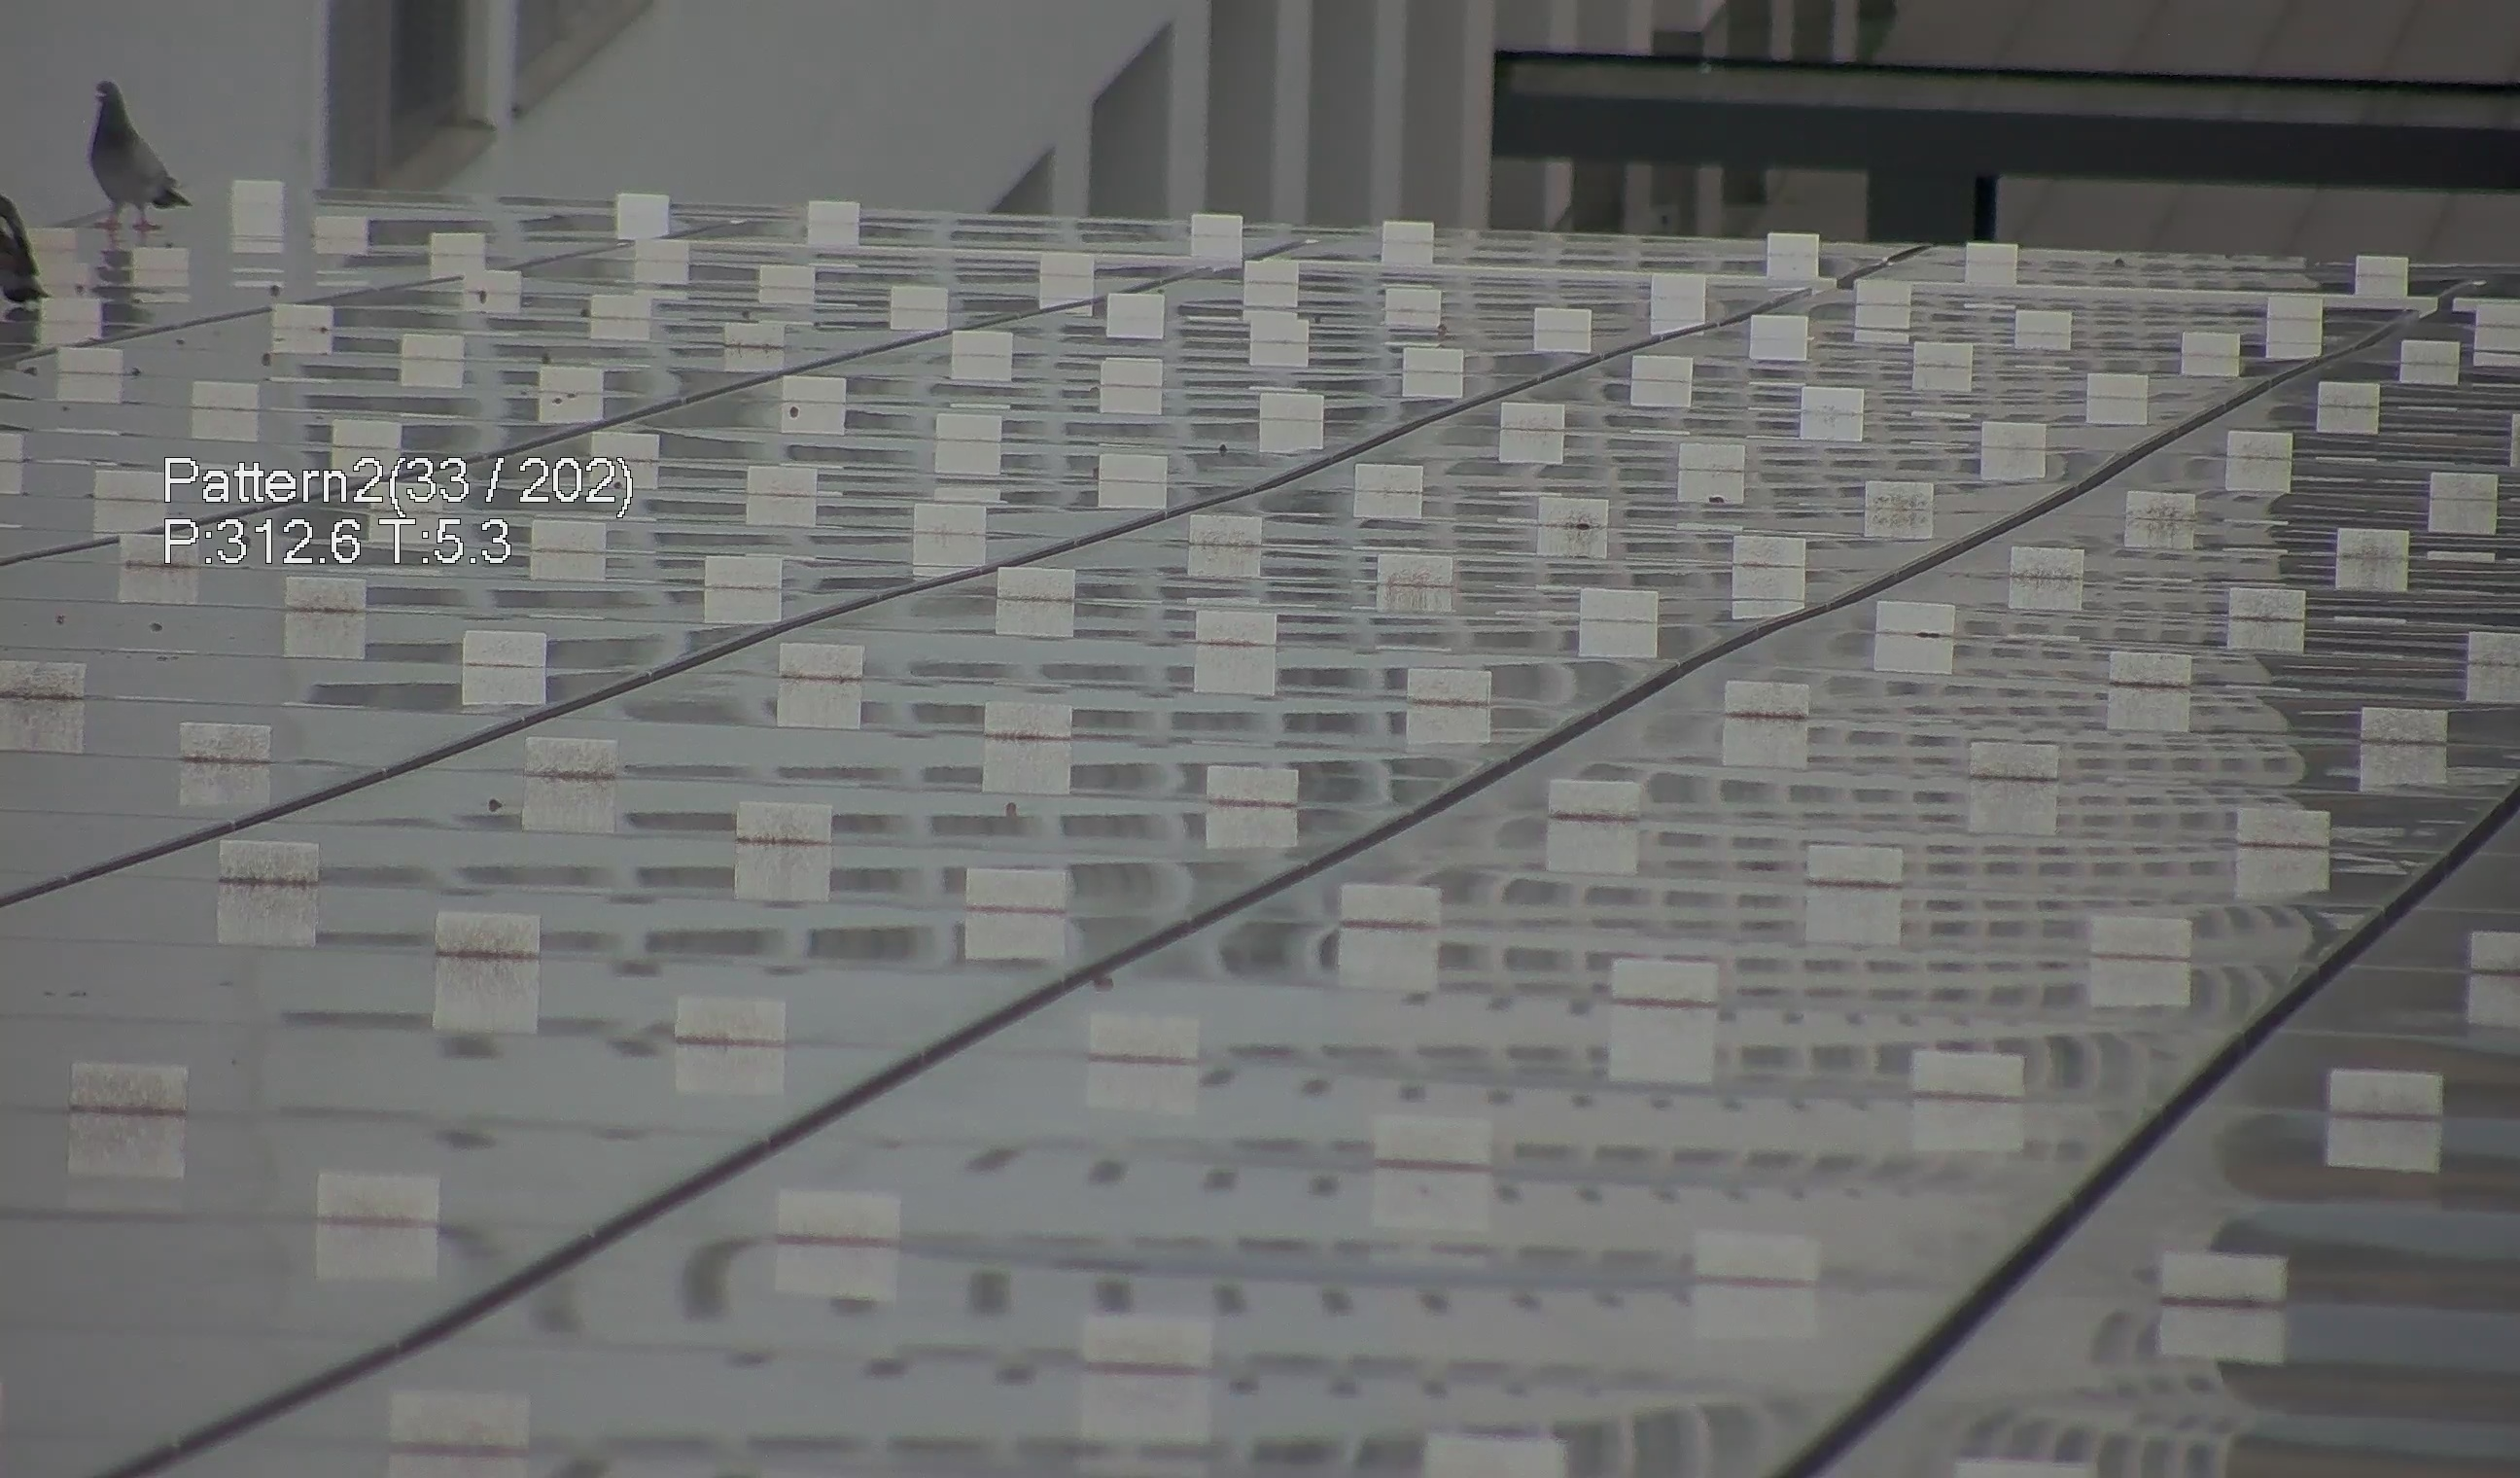Pigeon: (69, 65, 199, 236)
